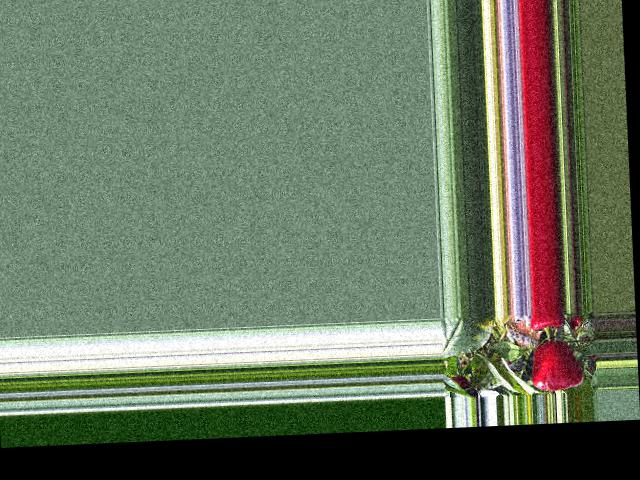bell_pepper: (526, 311, 567, 334)
